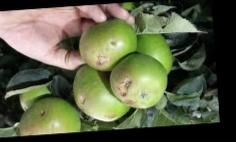rotten apple: (107, 52, 170, 109), (71, 63, 130, 123), (76, 14, 139, 68)
